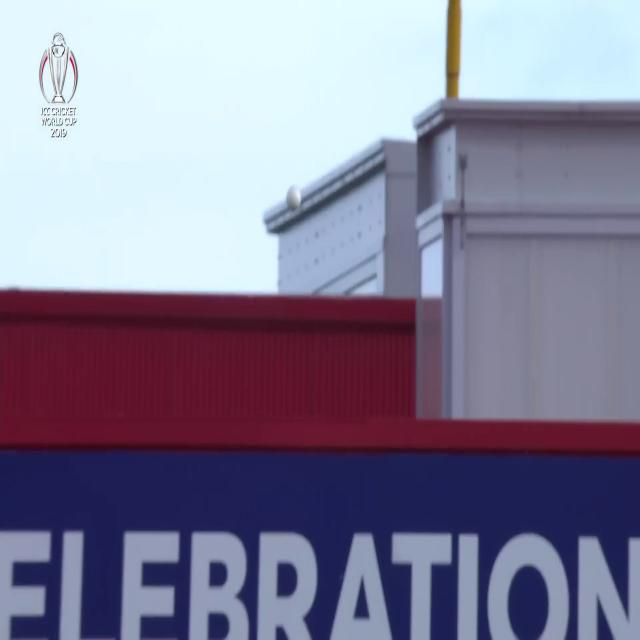ball: (282, 178, 304, 216)
